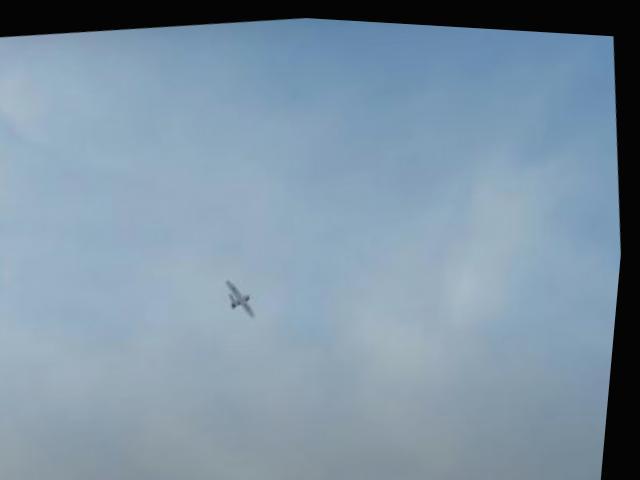uav: (226, 271, 266, 320)
